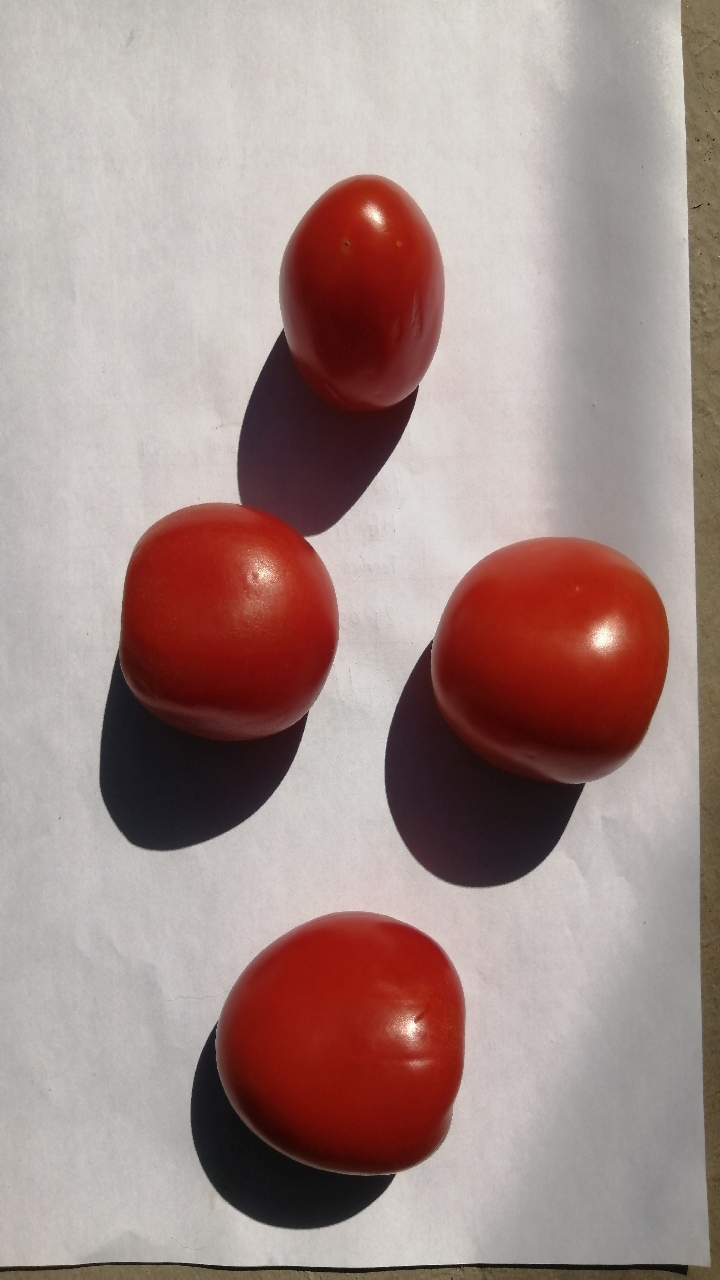tomateRojo: (403, 515, 681, 815), (201, 900, 478, 1194), (104, 491, 355, 760), (255, 162, 451, 426)
